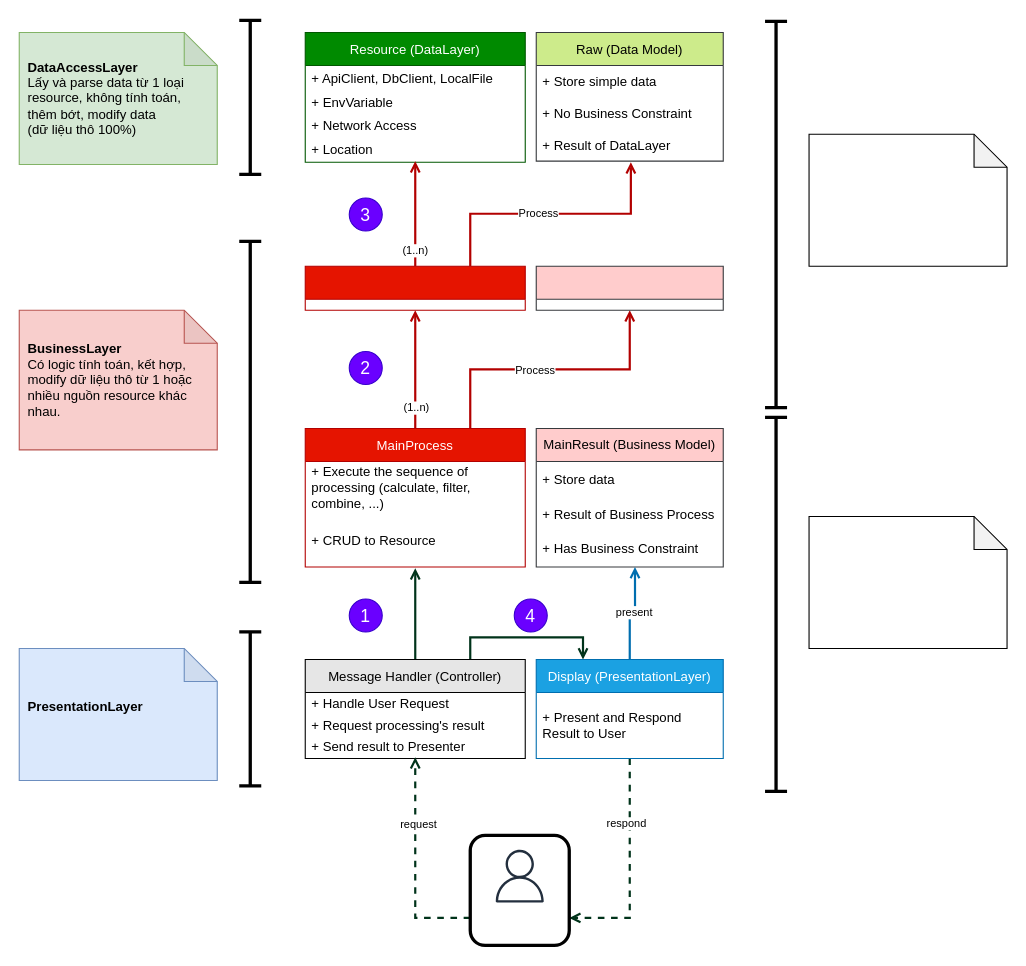
Some shapes in this 1026 by 966 pixel diagram are drawn without their labels. The shapes that lost their labels are listed below. From the top down, each one's centre as x and y in pixels, then its label:
At point (414, 287): "ShareProcess".
At point (629, 287): "ShareResult (Business Model)".
At point (519, 875): "User".
